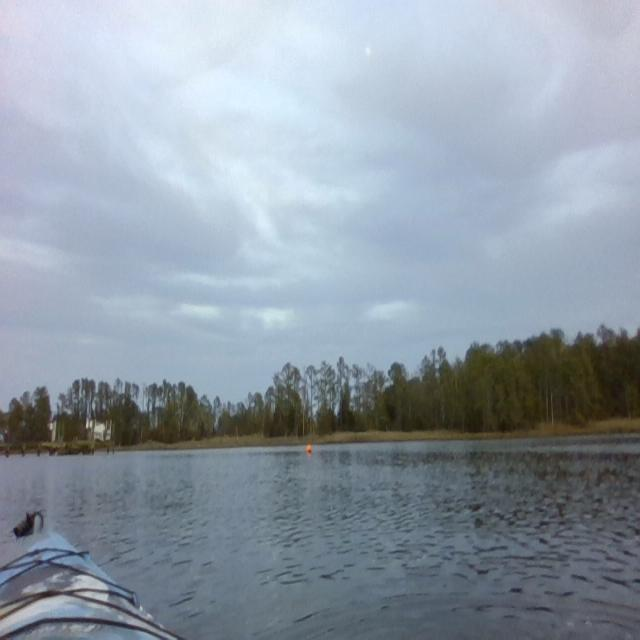Buoy: (305, 442, 313, 456)
